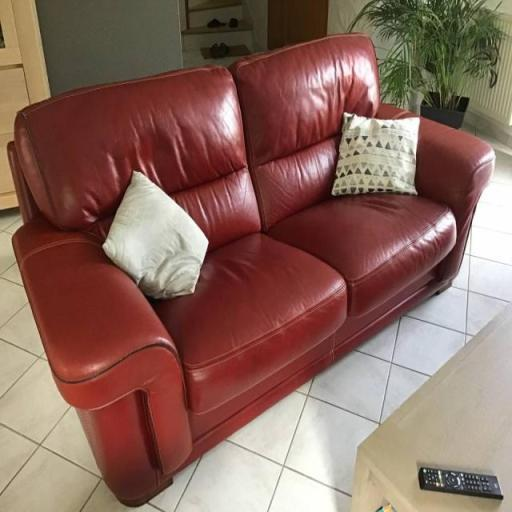sofa: (4, 26, 506, 488)
